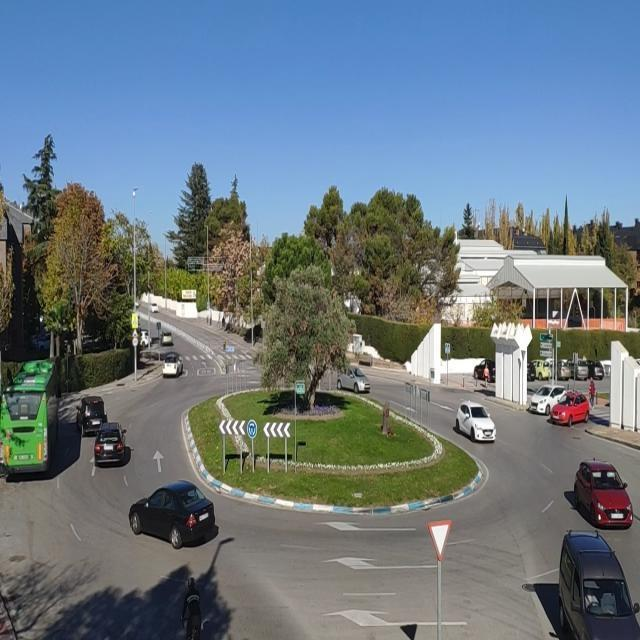Bus: (0, 358, 63, 477)
Car: (556, 530, 640, 640), (127, 479, 216, 548), (573, 461, 634, 530), (456, 401, 496, 443), (92, 422, 128, 466), (550, 391, 591, 427), (528, 384, 568, 415), (76, 396, 107, 436), (337, 368, 370, 393), (571, 359, 605, 380), (544, 358, 574, 380), (162, 353, 184, 378), (528, 359, 553, 381), (473, 359, 496, 381), (31, 333, 50, 352), (139, 329, 150, 347), (161, 331, 174, 346), (150, 303, 158, 313)
